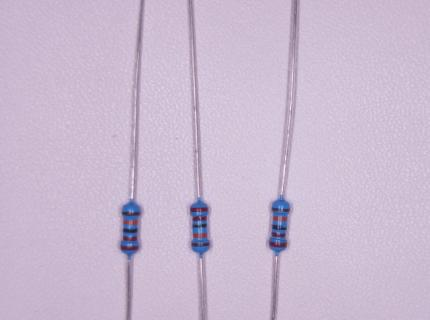Black band: (273, 225, 287, 230), (193, 224, 207, 229), (124, 229, 138, 233)
Brown band: (122, 212, 141, 216), (272, 208, 290, 212), (192, 243, 209, 247)
Orange band: (193, 233, 208, 238), (273, 216, 287, 221), (124, 220, 137, 225)
Red band: (270, 241, 287, 247), (123, 236, 137, 241), (193, 216, 207, 221), (272, 232, 286, 237), (121, 246, 138, 250), (191, 208, 208, 212)
